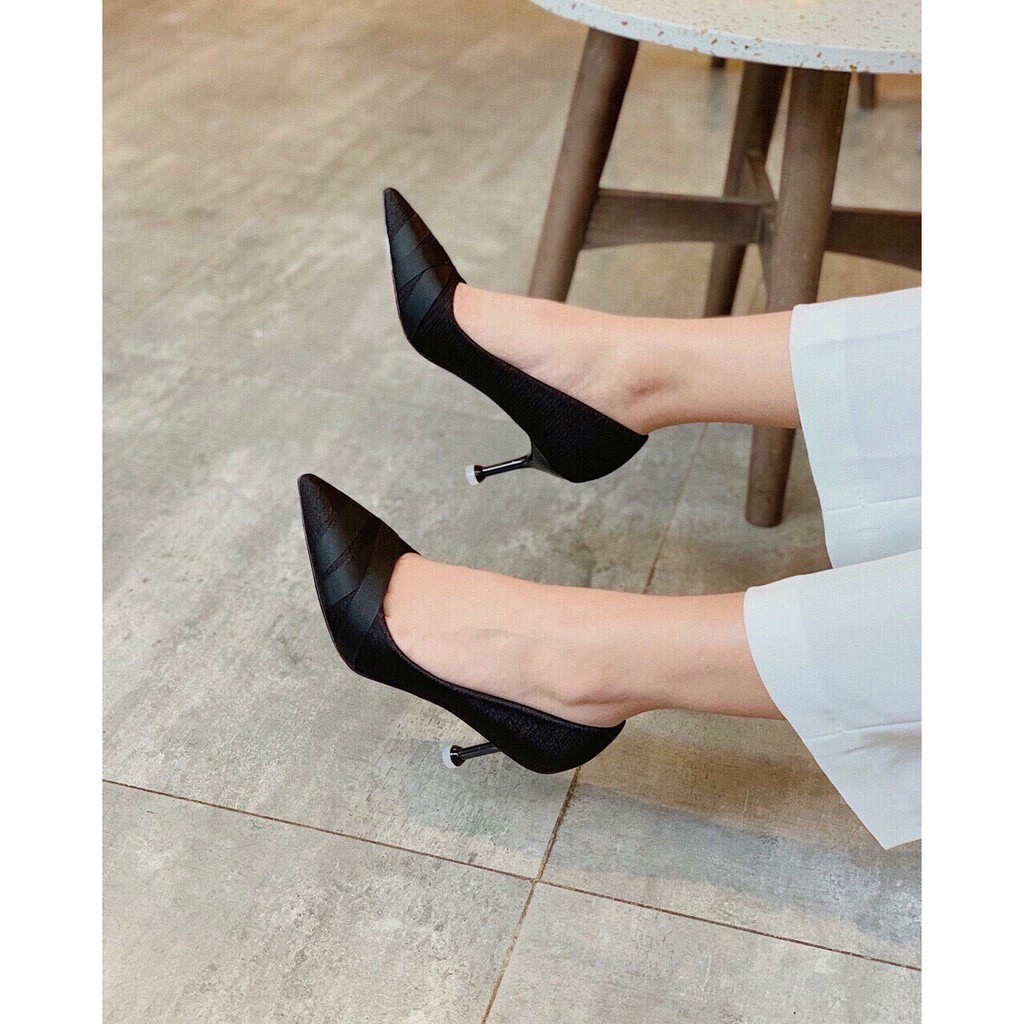high heels: (292, 464, 632, 783), (380, 179, 651, 487)
